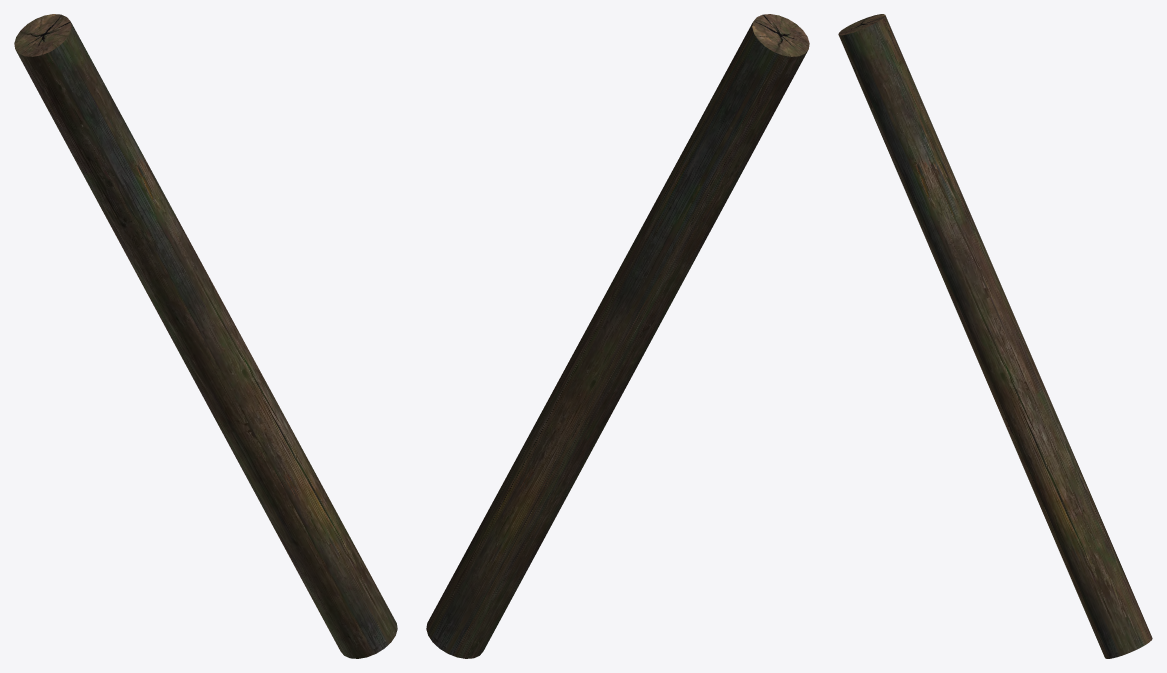
The picture shows the model from 3 angles, left to right: view 1: azimuth 30°, elevation 25°; view 2: azimuth 150°, elevation 25°; view 3: azimuth 330°, elevation 25°; orthographic projection. The views are drawn at different scales.
Visible parts, largest first — view 1: SM_BB_T1_Beam_Thin_Large_Steep_LOD0; view 2: SM_BB_T1_Beam_Thin_Large_Steep_LOD0; view 3: SM_BB_T1_Beam_Thin_Large_Steep_LOD0.
Part boxes in pixels (x1,y1,x2,y2): SM_BB_T1_Beam_Thin_Large_Steep_LOD0: [14, 14, 397, 658]; SM_BB_T1_Beam_Thin_Large_Steep_LOD0: [426, 14, 809, 658]; SM_BB_T1_Beam_Thin_Large_Steep_LOD0: [838, 14, 1152, 658].
Bounding box in the file's own units: 1.72 × 3.11 × 0.2512.
Materials: 1 (1 with a texture image).
